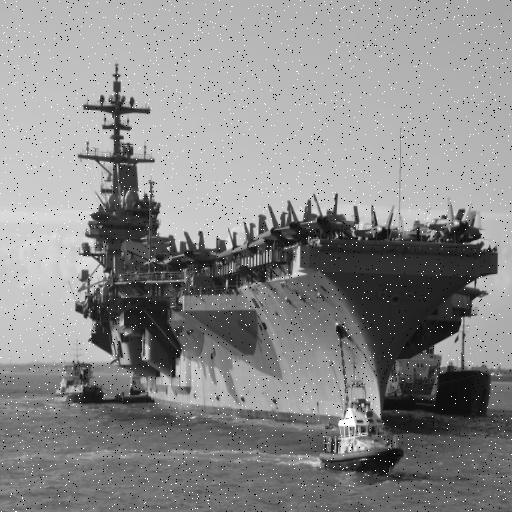Portanaves: (69, 56, 504, 443)
